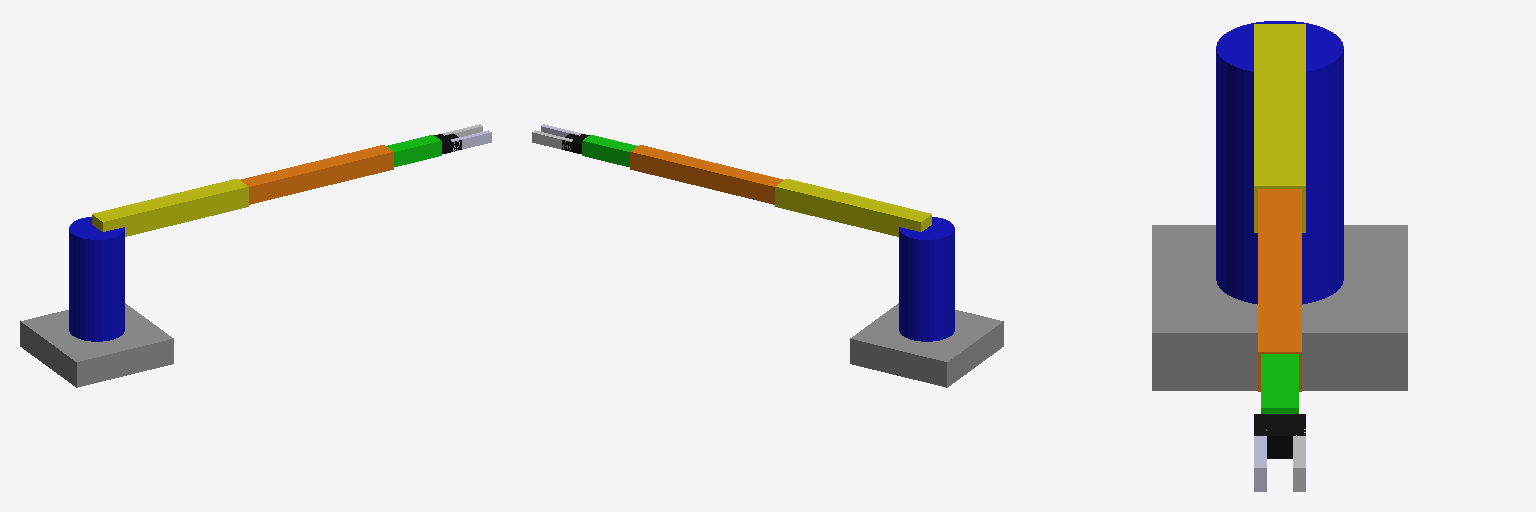
The robot description file, URDF, robot "five_dof_arm":
<?xml version="1.0"?>
<robot name="five_dof_arm">

  <!-- === LINKS === -->

  <!-- Base link sitting on the ground -->
  <link name="base_link">
    <inertial>
      <origin xyz="0 0 0" rpy="0 0 0"/>
      <mass value="2.0"/>
      <inertia ixx="0.01" ixy="0" ixz="0" iyy="0.01" iyz="0" izz="0.01"/>
    </inertial>
    <visual>
      <origin xyz="0 0 0.025" rpy="0 0 0"/>
      <geometry>
        <box size="0.2 0.2 0.05"/>
      </geometry>
      <material name="grey">
        <color rgba="0.6 0.6 0.6 1.0"/>
      </material>
    </visual>
    <collision>
      <origin xyz="0 0 0.025" rpy="0 0 0"/>
      <geometry>
        <box size="0.2 0.2 0.05"/>
      </geometry>
    </collision>
  </link>

  <!-- Vertical column above base -->
  <link name="link1_tower">
    <inertial>
      <origin xyz="0 0 0.1" rpy="0 0 0"/>
      <mass value="1.0"/>
      <inertia ixx="0.005" ixy="0" ixz="0" iyy="0.005" iyz="0" izz="0.005"/>
    </inertial>
    <visual>
      <origin xyz="0 0 0.1" rpy="0 0 0"/>
      <geometry>
        <cylinder radius="0.05" length="0.2"/>
      </geometry>
      <material name="blue">
        <color rgba="0.1 0.1 0.8 1.0"/>
      </material>
    </visual>
    <collision>
      <origin xyz="0 0 0.1" rpy="0 0 0"/>
      <geometry>
        <cylinder radius="0.05" length="0.2"/>
      </geometry>
    </collision>
  </link>

  <!-- Upper arm -->
  <link name="link2_upper_arm">
    <inertial>
      <origin xyz="0.15 0 0" rpy="0 0 0"/>
      <mass value="0.8"/>
      <inertia ixx="0.003" ixy="0" ixz="0" iyy="0.003" iyz="0" izz="0.003"/>
    </inertial>
    <visual>
      <origin xyz="0.15 0 0" rpy="0 0 0"/>
      <geometry>
        <box size="0.3 0.04 0.04"/>
      </geometry>
      <material name="yellow">
        <color rgba="0.8 0.8 0.1 1.0"/>
      </material>
    </visual>
    <collision>
      <origin xyz="0.15 0 0" rpy="0 0 0"/>
      <geometry>
        <box size="0.3 0.04 0.04"/>
      </geometry>
    </collision>
  </link>

  <!-- Forearm -->
  <link name="link3_forearm">
    <inertial>
      <origin xyz="0.15 0 0" rpy="0 0 0"/>
      <mass value="0.7"/>
      <inertia ixx="0.002" ixy="0" ixz="0" iyy="0.002" iyz="0" izz="0.002"/>
    </inertial>
    <visual>
      <origin xyz="0.15 0 0" rpy="0 0 0"/>
      <geometry>
        <box size="0.3 0.035 0.035"/>
      </geometry>
      <material name="orange">
        <color rgba="0.9 0.5 0.1 1.0"/>
      </material>
    </visual>
    <collision>
      <origin xyz="0.15 0 0" rpy="0 0 0"/>
      <geometry>
        <box size="0.3 0.035 0.035"/>
      </geometry>
    </collision>
  </link>

  <!-- Wrist body (before gripper) -->
  <link name="link4_wrist">
    <inertial>
      <origin xyz="0.05 0 0" rpy="0 0 0"/>
      <mass value="0.3"/>
      <inertia ixx="0.001" ixy="0" ixz="0" iyy="0.001" iyz="0" izz="0.001"/>
    </inertial>
    <visual>
      <origin xyz="0.05 0 0" rpy="0 0 0"/>
      <geometry>
        <box size="0.1 0.03 0.03"/>
      </geometry>
      <material name="green">
        <color rgba="0.1 0.8 0.1 1.0"/>
      </material>
    </visual>
    <collision>
      <origin xyz="0.05 0 0" rpy="0 0 0"/>
      <geometry>
        <box size="0.1 0.03 0.03"/>
      </geometry>
    </collision>
  </link>

  <!-- Gripper base -->
  <link name="gripper_base">
    <inertial>
      <origin xyz="0.02 0 0" rpy="0 0 0"/>
      <mass value="0.2"/>
      <inertia ixx="0.0005" ixy="0" ixz="0" iyy="0.0005" iyz="0" izz="0.0005"/>
    </inertial>
    <visual>
      <origin xyz="0.02 0 0" rpy="0 0 0"/>
      <geometry>
        <box size="0.04 0.04 0.02"/>
      </geometry>
      <material name="black">
        <color rgba="0.1 0.1 0.1 1.0"/>
      </material>
    </visual>
    <collision>
      <origin xyz="0.02 0 0" rpy="0 0 0"/>
      <geometry>
        <box size="0.04 0.04 0.02"/>
      </geometry>
    </collision>
  </link>

  <!-- Gripper finger 1 (actuated by joint5) -->
  <link name="gripper_finger1">
    <inertial>
      <origin xyz="0.04 0 0" rpy="0 0 0"/>
      <mass value="0.05"/>
      <inertia ixx="0.0001" ixy="0" ixz="0" iyy="0.0001" iyz="0" izz="0.0001"/>
    </inertial>
    <visual>
      <origin xyz="0.04 0 0" rpy="0 0 0"/>
      <geometry>
        <box size="0.08 0.01 0.02"/>
      </geometry>
      <material name="silver">
        <color rgba="0.8 0.8 0.8 1.0"/>
      </material>
    </visual>
    <collision>
      <origin xyz="0.04 0 0" rpy="0 0 0"/>
      <geometry>
        <box size="0.08 0.01 0.02"/>
      </geometry>
    </collision>
  </link>

  <!-- Gripper finger 2 (mimic of joint5) -->
  <link name="gripper_finger2">
    <inertial>
      <origin xyz="0.04 0 0" rpy="0 0 0"/>
      <mass value="0.05"/>
      <inertia ixx="0.0001" ixy="0" ixz="0" iyy="0.0001" iyz="0" izz="0.0001"/>
    </inertial>
    <visual>
      <origin xyz="0.04 0 0" rpy="0 0 0"/>
      <geometry>
        <box size="0.08 0.01 0.02"/>
      </geometry>
      <material name="silver2">
        <color rgba="0.8 0.8 0.9 1.0"/>
      </material>
    </visual>
    <collision>
      <origin xyz="0.04 0 0" rpy="0 0 0"/>
      <geometry>
        <box size="0.08 0.01 0.02"/>
      </geometry>
    </collision>
  </link>

  <!-- === JOINTS === -->

  <!-- Joint 1: base yaw, 270 deg total, about Z -->
  <joint name="joint1_base_yaw" type="revolute">
    <parent link="base_link"/>
    <child link="link1_tower"/>
    <origin xyz="0 0 0.05" rpy="0 0 0"/>
    <axis xyz="0 0 1"/>
    <dynamics damping="0.1" friction="0.1"/>
    <!-- ±135 degrees -->
    <limit lower="-2.3562" upper="2.3562" effort="50.0" velocity="2.0"/>
  </joint>

  <!-- Joint 2: shoulder pitch at top of tower (about Y) -->
  <joint name="joint2_shoulder" type="revolute">
    <parent link="link1_tower"/>
    <child link="link2_upper_arm"/>
    <origin xyz="0 0 0.2" rpy="0 0 0"/>
    <axis xyz="0 1 0"/>
    <dynamics damping="0.1" friction="0.1"/>
    <limit lower="-1.5708" upper="1.5708" effort="50.0" velocity="2.0"/>
  </joint>

  <!-- Joint 3: elbow pitch (about Y) -->
  <joint name="joint3_elbow" type="revolute">
    <parent link="link2_upper_arm"/>
    <child link="link3_forearm"/>
    <origin xyz="0.3 0 0" rpy="0 0 0"/>
    <axis xyz="0 1 0"/>
    <dynamics damping="0.1" friction="0.1"/>
    <limit lower="0.0" upper="2.3562" effort="40.0" velocity="2.0"/>
  </joint>

  <!-- Joint 4: wrist roll (about X or Z – here Z) -->
  <joint name="joint4_wrist_roll" type="revolute">
    <parent link="link3_forearm"/>
    <child link="link4_wrist"/>
    <origin xyz="0.3 0 0" rpy="0 0 0"/>
    <axis xyz="0 0 1"/>
    <dynamics damping="0.1" friction="0.1"/>
    <!-- ±135 degrees -->
    <limit lower="-2.3562" upper="2.3562" effort="30.0" velocity="3.0"/>
  </joint>

  <!-- Fixed joint from wrist to gripper base -->
  <joint name="joint_gripper_mount" type="fixed">
    <parent link="link4_wrist"/>
    <child link="gripper_base"/>
    <origin xyz="0.1 0 0" rpy="0 0 0"/>
  </joint>

  <!-- Joint 5: gripper open/close, actuated (about Y) -->
  <joint name="joint5_gripper" type="revolute">
    <parent link="gripper_base"/>
    <child link="gripper_finger1"/>
    <origin xyz="0.02 0.015 0" rpy="0 0 0"/>
    <axis xyz="0 1 0"/>
    <dynamics damping="0.1" friction="0.1"/>
    <!-- 0 rad = open, positive = close -->
    <limit lower="0.0" upper="0.8" effort="10.0" velocity="3.0"/>
  </joint>

  <!-- Mimic joint for second finger (moves opposite) -->
  <joint name="joint5_gripper_mimic" type="revolute">
    <parent link="gripper_base"/>
    <child link="gripper_finger2"/>
    <origin xyz="0.02 -0.015 0" rpy="0 0 0"/>
    <axis xyz="0 1 0"/>
    <dynamics damping="0.1" friction="0.1"/>
    <limit lower="-0.8" upper="0.0" effort="10.0" velocity="3.0"/>
    <mimic joint="joint5_gripper" multiplier="-1.0" offset="0.0"/>
  </joint>
  
  <!-- === GAZEBO JOINT CONTROLLERS === -->
  <gazebo>
    <!-- Joint 1 -->
    <plugin
      filename="libignition-gazebo-joint-position-controller-system.so"
      name="ignition::gazebo::systems::JointPositionController">
      <joint_name>joint1_base_yaw</joint_name>
      <p_gain>10.0</p_gain>
      <topic>/model/five_dof_arm/joint/joint1_base_yaw/0/cmd_pos</topic>
    </plugin>

    <!-- Joint 2 -->
    <plugin
      filename="libignition-gazebo-joint-position-controller-system.so"
      name="ignition::gazebo::systems::JointPositionController">
      <joint_name>joint2_shoulder</joint_name>
      <p_gain>10.0</p_gain>
      <topic>/model/five_dof_arm/joint/joint2_shoulder/0/cmd_pos</topic>
    </plugin>

    <!-- Joint 3 -->
    <plugin
      filename="libignition-gazebo-joint-position-controller-system.so"
      name="ignition::gazebo::systems::JointPositionController">
      <joint_name>joint3_elbow</joint_name>
      <p_gain>10.0</p_gain>
      <topic>/model/five_dof_arm/joint/joint3_elbow/0/cmd_pos</topic>
    </plugin>

    <!-- Joint 4 -->
    <plugin
      filename="libignition-gazebo-joint-position-controller-system.so"
      name="ignition::gazebo::systems::JointPositionController">
      <joint_name>/model/five_dof_arm/joint/joint4_wrist_roll/0/cmd_pos</joint_name>
      <p_gain>5.0</p_gain>
      <topic>/arm/joint4_cmd</topic>
    </plugin>

    <!-- Joint 5 -->
    <plugin
      filename="libignition-gazebo-joint-position-controller-system.so"
      name="ignition::gazebo::systems::JointPositionController">
      <joint_name>/model/five_dof_arm/joint/joint5_gripper/0/cmd_pos</joint_name>
      <p_gain>3.0</p_gain>
      <topic>/arm/joint5_cmd</topic>
    </plugin>
  </gazebo>

</robot>

--- Facts derived from the render (not from the file) ---
Views: 3 orthographic renders of the robot side by side, from view 1: azimuth 30°, elevation 25°; view 2: azimuth 150°, elevation 25°; view 3: azimuth 270°, elevation 25°.
Model five_dof_arm with 8 links and 7 joints (6 revolute, 1 fixed), rooted at base_link, posed every joint at zero.
Links seen in each view (by area): view 1: base_link, link1_tower, link2_upper_arm, link3_forearm, link4_wrist; view 2: base_link, link1_tower, link2_upper_arm, link3_forearm, link4_wrist; view 3: base_link, link1_tower, link2_upper_arm, link3_forearm, link4_wrist, gripper_base, gripper_finger1, gripper_finger2.
Link boxes in pixels (<box>): base_link: <box>20,303,173,387</box>; link1_tower: <box>69,217,124,341</box>; link2_upper_arm: <box>92,179,248,236</box>; link3_forearm: <box>240,145,393,204</box>; link4_wrist: <box>386,135,441,166</box>; base_link: <box>850,303,1003,387</box>; link1_tower: <box>899,217,954,341</box>; link2_upper_arm: <box>775,179,931,236</box>; link3_forearm: <box>630,145,783,204</box>; link4_wrist: <box>582,135,637,166</box>; base_link: <box>1152,225,1407,390</box>; link1_tower: <box>1216,21,1343,304</box>; link2_upper_arm: <box>1254,24,1305,232</box>; link3_forearm: <box>1258,189,1301,391</box>; link4_wrist: <box>1261,354,1298,413</box>; gripper_base: <box>1254,414,1305,458</box>; gripper_finger1: <box>1293,429,1305,491</box>; gripper_finger2: <box>1254,430,1266,491</box>.
Size in the robot's own frame: 0.9 by 0.2 by 0.27 metres.
Geometry: primitives only (box / cylinder / sphere), no mesh files.
